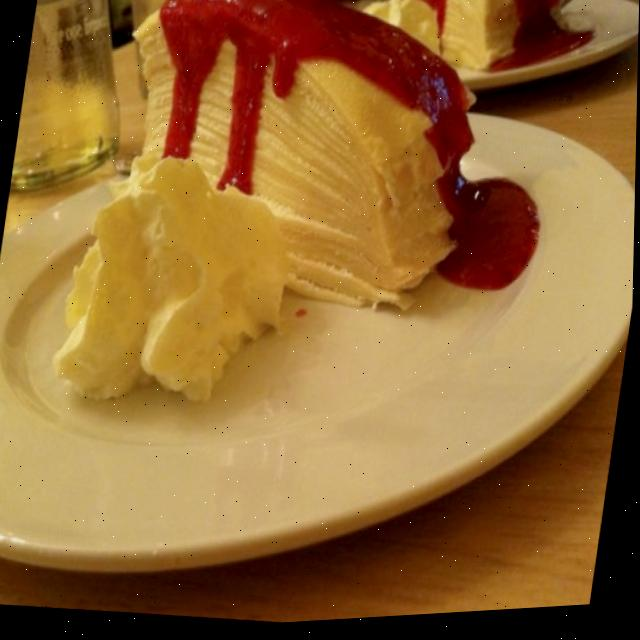蛋糕甜品: (37, 0, 597, 482)
